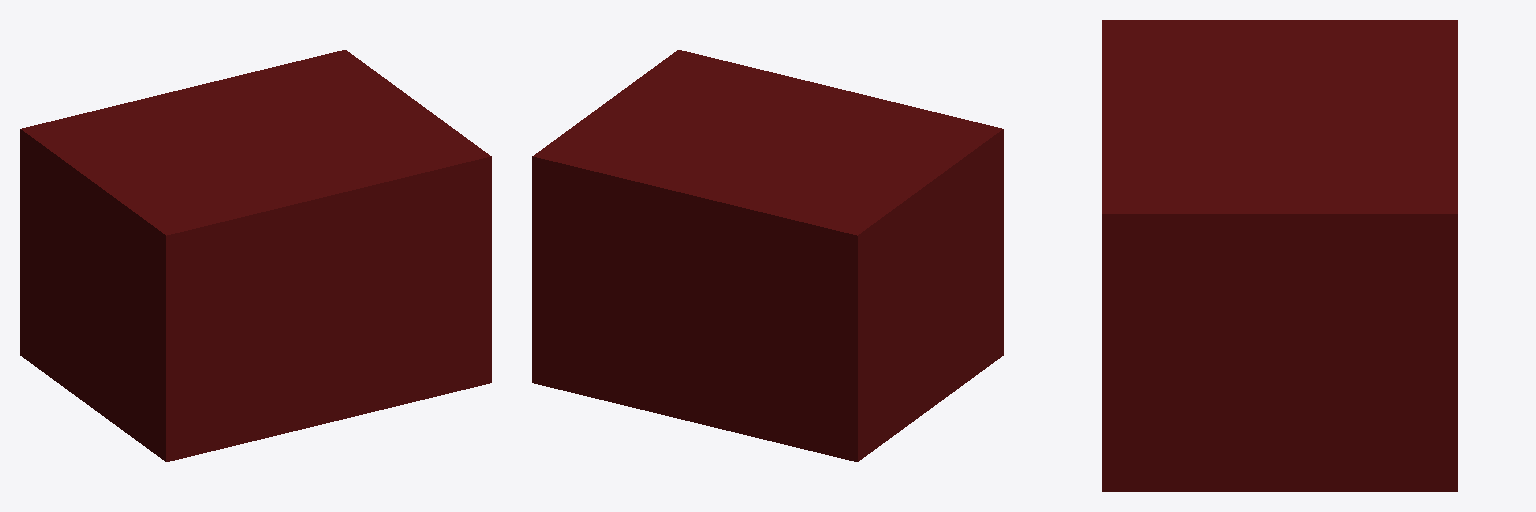
URDF robot description (random_box):
<?xml version='1.0' encoding='UTF-8'?>
<robot name="random_box">
  <link name="box">

    <inertial>
      <mass value="0.3"/>
      <origin xyz="0 0 0" rpy="0 0 0"/>
      <inertia ixx="0.1" ixy="0.1" ixz="0.1" iyy="0.1" iyz="0.1" izz="0.1"/>
    </inertial>

    <visual>
      <geometry>
        <box size="0.9 0.7 0.6"/>
      </geometry>
      <material name="color">
        <color rgba="0.4 0.1 0.1 1"/>
      </material>
    </visual>
    <collision>
      <geometry>
        <box size="0.9 0.7 0.6"/>
      </geometry>

      <surface>
        <friction>
          <ode>
            <mu>100000000.0</mu>
            <mu2>100000000.0</mu2>
          </ode>
        </friction>
        <contact>
          <ode>
            <min_depth>0.003</min_depth>
          </ode>
        </contact>
      </surface>

    </collision>

  </link>
</robot>

--- Facts derived from the render (not from the file) ---
Views: 3 orthographic renders of the robot side by side, from view 1: azimuth 30°, elevation 25°; view 2: azimuth 150°, elevation 25°; view 3: azimuth 270°, elevation 25°.
Model random_box with 1 links and 0 joints (none), rooted at box, posed every joint at zero.
Links seen in each view (by area): view 1: box; view 2: box; view 3: box.
Boxes of the visible links, box(x1,y1,x2,y2) form: box: box(20, 50, 491, 461); box: box(532, 50, 1003, 461); box: box(1102, 20, 1457, 491).
Bounding box of the posed robot: 0.9 × 0.7 × 0.6 m (x, y, z).
Geometry: primitives only (box / cylinder / sphere), no mesh files.